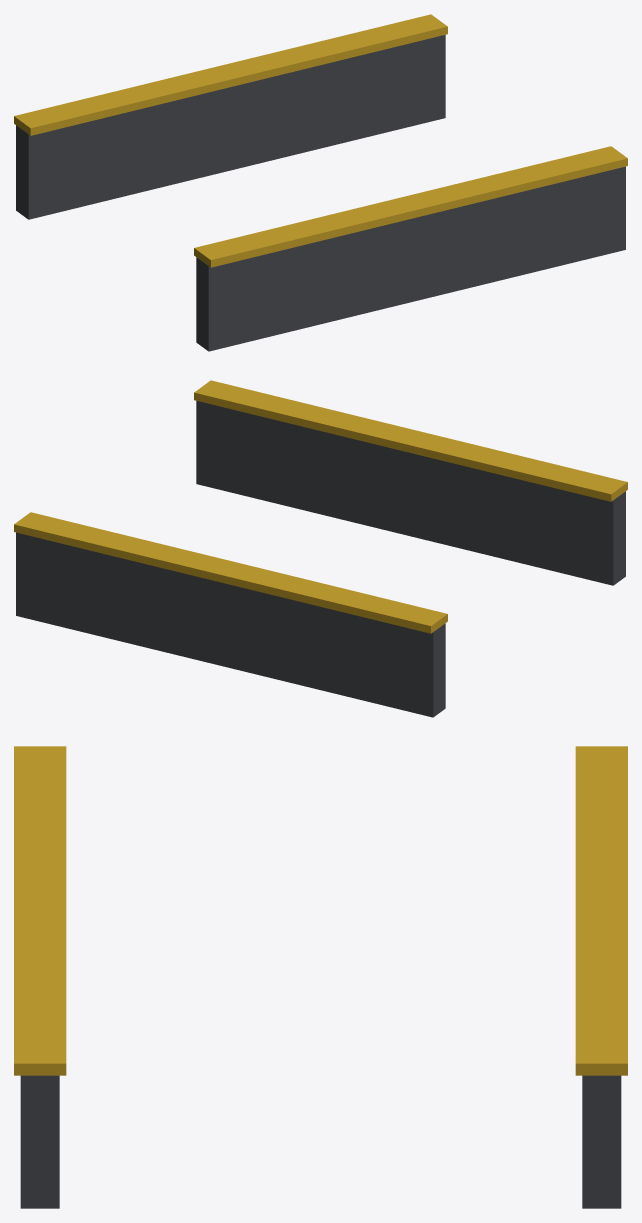
File: module_cradle.glb
3 views of the same model, one above another, from view 1: azimuth 30°, elevation 25°; view 2: azimuth 150°, elevation 25°; view 3: azimuth 270°, elevation 25° (orthographic). The views are drawn at different scales.
Visible parts, largest first — view 1: module_cradle; view 2: module_cradle; view 3: module_cradle.
Boxes of the visible parts, x1=… form: module_cradle: x1=14, y1=14, x2=627, y2=351; module_cradle: x1=14, y1=380, x2=627, y2=717; module_cradle: x1=14, y1=746, x2=627, y2=1208.
Bounding box in the file's own units: 0.23 × 0.049 × 0.188.
